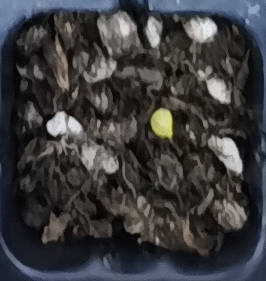pepper seed: (62, 38, 237, 178)
